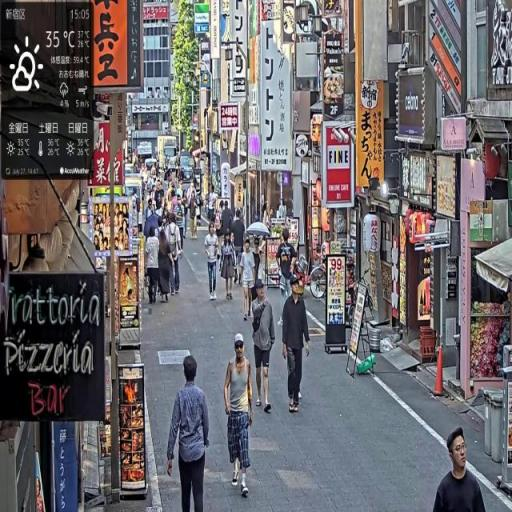person: (167, 353, 212, 512), (224, 331, 257, 498), (281, 274, 313, 417), (433, 426, 486, 512), (252, 279, 278, 415), (165, 209, 184, 296), (145, 224, 163, 309), (240, 241, 258, 325), (219, 227, 238, 302), (205, 222, 221, 301), (233, 209, 248, 288)
